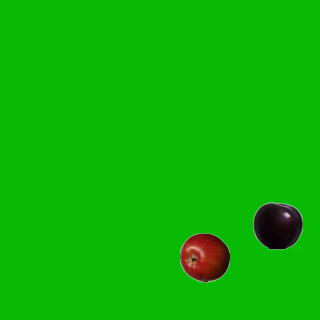Apple Braeburn: (179, 232, 229, 282)
Cherry Wax Black: (252, 200, 302, 250)
